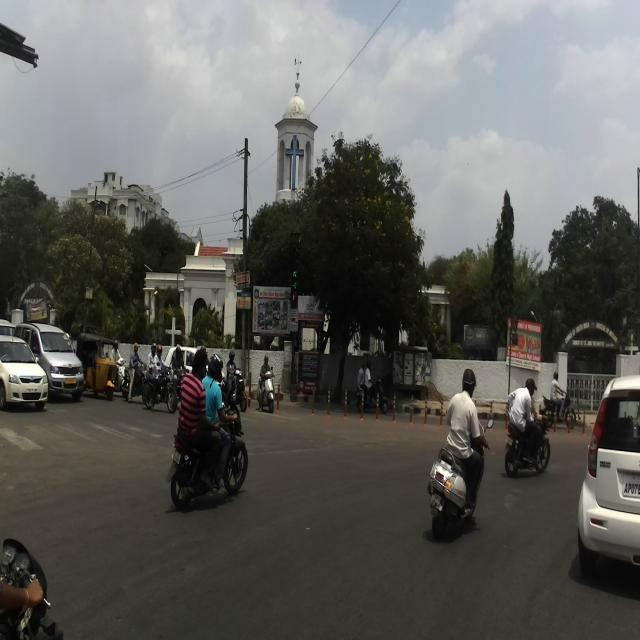car: (577, 374, 640, 584), (14, 322, 84, 401)
motorcycle: (165, 387, 248, 508), (0, 539, 65, 639), (503, 410, 550, 476)
scooter: (427, 418, 493, 540)
